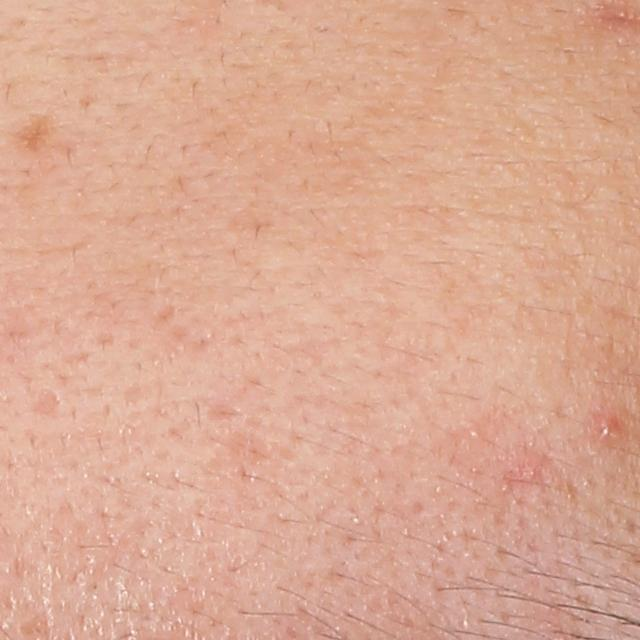atrophic_scar: (152, 300, 180, 333), (30, 391, 63, 415)
comedo: (466, 427, 483, 441)
papule: (598, 417, 622, 443)
